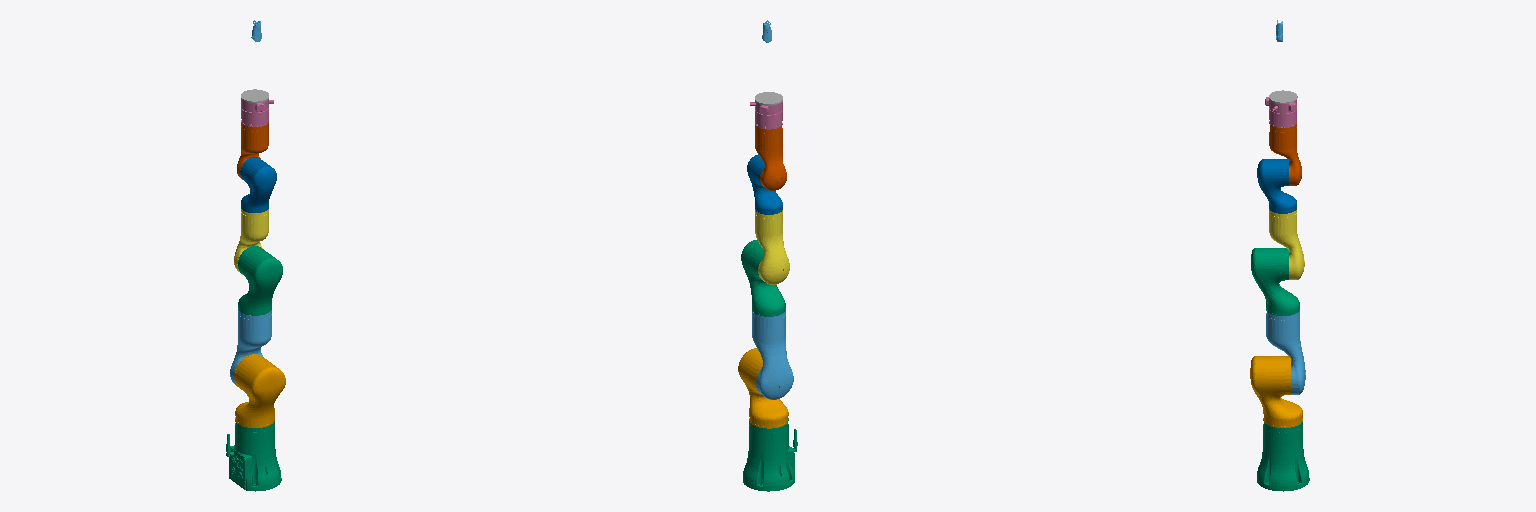
URDF robot description (Realman_Inspire_R_mimic):
<?xml version="1.0" encoding="UTF-8"?>
<robot name="Realman_Inspire_R_mimic">
  <!-- <joint name="R_index_proximal_joint" type="fixed">
    <origin xyz="-0.0019977 -0.0322074 0.1386 " rpy="1.5707964 0.0348927 -1.6415869"/>
    <parent link="R_hand_base_link"/>
    <child link="R_index_proximal"/>
    <limit lower="0." upper="1.7" effort="1.0" velocity="0.5"/>
  </joint> -->
  <joint name="R_middle_proximal_joint" type="fixed">
    <origin xyz="-0.0006314 -0.0129378 0.13917 " rpy="1.5707964 -0.0000072 -1.6415869"/>
    <parent link="R_hand_base_link"/>
    <child link="R_middle_proximal"/>
    <axis xyz="1. 0. 0."/>
    <limit lower="0." upper="1.7" effort="1." velocity="0.5"/>
  </joint>
  <joint name="hand_joint" type="fixed">
    <origin xyz="-0. 0. 0." rpy="0. 1.5707963 0. "/>
    <parent link="Link7"/>
    <child link="R_flange_link"/>
  </joint>
  <joint name="hand_root_joint" type="fixed">
    <origin xyz="0. 0. -0." rpy="0. 0. 0."/>
    <parent link="R_flange_link"/>
    <child link="R_hand_base_link"/>
  </joint>
  <joint name="joint1" type="revolute">
    <origin xyz="0. 0. 0.2405" rpy="3.1415927 -1.5707928 1.5707964"/>
    <parent link="base_link"/>
    <child link="Link1"/>
    <axis xyz="1. 0. 0."/>
    <limit lower="-3.1070001" upper="3.1070001" effort="100." velocity="1."/>
  </joint>
  <joint name="joint2" type="revolute">
    <origin xyz="0. 0. 0." rpy="3.1415927 -1.5707928 0. "/>
    <parent link="Link1"/>
    <child link="Link2"/>
    <axis xyz="1. 0. 0."/>
    <limit lower="-2.2689999" upper="2.2689999" effort="100." velocity="1."/>
  </joint>
  <joint name="joint3" type="revolute">
    <origin xyz="0. 0. 0.256" rpy="3.1415927 -1.5707928 0. "/>
    <parent link="Link2"/>
    <child link="Link3"/>
    <axis xyz="1. 0. 0."/>
    <limit lower="-3.1070001" upper="3.1070001" effort="100." velocity="1."/>
  </joint>
  <joint name="joint4" type="revolute">
    <origin xyz="0. 0. 0." rpy="3.1415927 -1.5707928 0. "/>
    <parent link="Link3"/>
    <child link="Link4"/>
    <axis xyz="1. 0. 0."/>
    <limit lower="-2.3559998" upper="2.3559998" effort="100." velocity="1."/>
  </joint>
  <joint name="joint5" type="revolute">
    <origin xyz="0. 0. 0.21" rpy="3.1415927 -1.5707928 0. "/>
    <parent link="Link4"/>
    <child link="Link5"/>
    <axis xyz="1. 0. 0."/>
    <limit lower="-3.1070001" upper="3.1070001" effort="100." velocity="1."/>
  </joint>
  <joint name="joint6" type="revolute">
    <origin xyz="0. 0. 0." rpy="3.1415927 -1.5707928 0. "/>
    <parent link="Link5"/>
    <child link="Link6"/>
    <axis xyz="1. 0. 0."/>
    <limit lower="-2.2339999" upper="2.2339999" effort="100." velocity="1."/>
  </joint>
  <joint name="joint7" type="revolute">
    <origin xyz="0. 0. 0.1725" rpy="-1.5707964 -1.5707964 0. "/>
    <parent link="Link6"/>
    <child link="Link7"/>
    <axis xyz="1. 0. 0."/>
    <limit lower="-6.2829994" upper="6.2829994" effort="100." velocity="1."/>
  </joint>
  <link name="Link1">
    <inertial>
      <origin xyz="0. 0. 0." rpy="0. 0. 0."/>
      <mass value="0.59356"/>
      <inertia ixx="0." ixy="0." ixz="0." iyy="0." iyz="0." izz="0."/>
    </inertial>
    <visual>
      <origin xyz="0. 0. 0." rpy="0. 0. 1.5707964"/>
      <geometry>
        <mesh filename="meshes/Link1_visuals.obj" scale="1. 1. 1."/>
      </geometry>
    </visual>
    <visual>
      <origin xyz="0. 0. 0." rpy="0. 0. 1.5707964"/>
      <geometry>
        <mesh filename="meshes/Link1_collisions.obj" scale="1. 1. 1."/>
      </geometry>
    </visual>
    <collision>
      <origin xyz="0. 0. 0." rpy="0. 0. 1.5707964"/>
      <geometry>
        <mesh filename="meshes/Link1_collisions.obj" scale="1. 1. 1."/>
      </geometry>
    </collision>
  </link>
  <link name="Link2">
    <inertial>
      <origin xyz="0. 0. 0." rpy="0. 0. 0."/>
      <mass value="0.43285"/>
      <inertia ixx="0." ixy="0." ixz="0." iyy="0." iyz="0." izz="0."/>
    </inertial>
    <visual>
      <origin xyz="0. 0. 0." rpy="0. 0. -1.5707964"/>
      <geometry>
        <mesh filename="meshes/Link2_visuals.obj" scale="1. 1. 1."/>
      </geometry>
    </visual>
    <visual>
      <origin xyz="0. 0. 0." rpy="0. 0. -1.5707964"/>
      <geometry>
        <mesh filename="meshes/Link2_collisions.obj" scale="1. 1. 1."/>
      </geometry>
    </visual>
    <collision>
      <origin xyz="0. 0. 0." rpy="0. 0. -1.5707964"/>
      <geometry>
        <mesh filename="meshes/Link2_collisions.obj" scale="1. 1. 1."/>
      </geometry>
    </collision>
  </link>
  <link name="Link3">
    <inertial>
      <origin xyz="0. 0. 0." rpy="0. 0. 0."/>
      <mass value="0.43132"/>
      <inertia ixx="0." ixy="0." ixz="0." iyy="0." iyz="0." izz="0."/>
    </inertial>
    <visual>
      <origin xyz="0. 0. 0." rpy="0. 0. 1.5707964"/>
      <geometry>
        <mesh filename="meshes/Link3_visuals.obj" scale="1. 1. 1."/>
      </geometry>
    </visual>
    <visual>
      <origin xyz="0. 0. 0." rpy="0. 0. 1.5707964"/>
      <geometry>
        <mesh filename="meshes/Link3_collisions.obj" scale="1. 1. 1."/>
      </geometry>
    </visual>
    <collision>
      <origin xyz="0. 0. 0." rpy="0. 0. 1.5707964"/>
      <geometry>
        <mesh filename="meshes/Link3_collisions.obj" scale="1. 1. 1."/>
      </geometry>
    </collision>
  </link>
  <link name="Link4">
    <inertial>
      <origin xyz="0. 0. 0." rpy="0. 0. 0."/>
      <mass value="0.28963"/>
      <inertia ixx="0." ixy="0." ixz="0." iyy="0." iyz="0." izz="0."/>
    </inertial>
    <visual>
      <origin xyz="0. 0. 0." rpy="0. 0. -1.5707964"/>
      <geometry>
        <mesh filename="meshes/Link4_visuals.obj" scale="1. 1. 1."/>
      </geometry>
    </visual>
    <visual>
      <origin xyz="0. 0. 0." rpy="0. 0. -1.5707964"/>
      <geometry>
        <mesh filename="meshes/Link4_collisions.obj" scale="1. 1. 1."/>
      </geometry>
    </visual>
    <collision>
      <origin xyz="0. 0. 0." rpy="0. 0. -1.5707964"/>
      <geometry>
        <mesh filename="meshes/Link4_collisions.obj" scale="1. 1. 1."/>
      </geometry>
    </collision>
  </link>
  <link name="Link5">
    <inertial>
      <origin xyz="0. 0. 0." rpy="0. 0. 0."/>
      <mass value="0.23941"/>
      <inertia ixx="0." ixy="0." ixz="0." iyy="0." iyz="0." izz="0."/>
    </inertial>
    <visual>
      <origin xyz="0. 0. 0." rpy="0. 0. 1.5707964"/>
      <geometry>
        <mesh filename="meshes/Link5_visuals.obj" scale="1. 1. 1."/>
      </geometry>
    </visual>
    <visual>
      <origin xyz="0. 0. 0." rpy="0. 0. 1.5707964"/>
      <geometry>
        <mesh filename="meshes/Link5_collisions.obj" scale="1. 1. 1."/>
      </geometry>
    </visual>
    <collision>
      <origin xyz="0. 0. 0." rpy="0. 0. 1.5707964"/>
      <geometry>
        <mesh filename="meshes/Link5_collisions.obj" scale="1. 1. 1."/>
      </geometry>
    </collision>
  </link>
  <link name="Link6">
    <inertial>
      <origin xyz="0. 0. 0." rpy="0. 0. 0."/>
      <mass value="0.21879"/>
      <inertia ixx="0." ixy="0." ixz="0." iyy="0." iyz="0." izz="0."/>
    </inertial>
    <visual>
      <origin xyz="0. 0. 0." rpy="0. 0. -1.5707964"/>
      <geometry>
        <mesh filename="meshes/Link6_visuals.obj" scale="1. 1. 1."/>
      </geometry>
    </visual>
    <visual>
      <origin xyz="0. 0. 0." rpy="0. 0. -1.5707964"/>
      <geometry>
        <mesh filename="meshes/Link6_collisions.obj" scale="1. 1. 1."/>
      </geometry>
    </visual>
    <collision>
      <origin xyz="0. 0. 0." rpy="0. 0. -1.5707964"/>
      <geometry>
        <mesh filename="meshes/Link6_collisions.obj" scale="1. 1. 1."/>
      </geometry>
    </collision>
  </link>
  <link name="Link7">
    <inertial>
      <origin xyz="0. 0. 0." rpy="0. 0. 0."/>
      <mass value="0.14433"/>
      <inertia ixx="0." ixy="0." ixz="0." iyy="0." iyz="0." izz="0."/>
    </inertial>
    <visual>
      <origin xyz="0. 0. 0." rpy="0. 1.5707963 0. "/>
      <geometry>
        <mesh filename="meshes/Link7_visuals.obj" scale="1. 1. 1."/>
      </geometry>
    </visual>
    <visual>
      <origin xyz="0. 0. 0." rpy="0. 1.5707963 0. "/>
      <geometry>
        <mesh filename="meshes/Link7_collisions.obj" scale="1. 1. 1."/>
      </geometry>
    </visual>
    <collision>
      <origin xyz="0. 0. 0." rpy="0. 1.5707963 0. "/>
      <geometry>
        <mesh filename="meshes/Link7_collisions.obj" scale="1. 1. 1."/>
      </geometry>
    </collision>
  </link> 
  <link name="R_flange_link">
    <visual>
      <origin xyz="0. 0. 0." rpy="0. 0. 0."/>
      <geometry>
        <cylinder radius="0.03" length="0.0038"/>
      </geometry>
    </visual>
    <collision>
      <origin xyz="0. 0. 0." rpy="0. 0. 0."/>
      <geometry>
        <cylinder radius="0.03" length="0.0038"/>
      </geometry>
    </collision>
  </link>
  <link name="R_hand_base_link">
    <inertial>
      <origin xyz="0. 0. 0." rpy="0. 0. 0."/>
      <mass value="0.14143"/>
      <inertia ixx="0." ixy="0." ixz="0." iyy="0." iyz="0." izz="0."/>
    </inertial>
    <visual>
      <origin xyz="-0. -0. 0.00207" rpy="-1.5707964 0. -0.0707906"/>
      <geometry>
        <mesh filename="meshes/R_hand_base_link_visuals.obj" scale="1. 1. 1."/>
      </geometry>
    </visual>
    <visual>
      <origin xyz="-0. -0. 0.00207" rpy="-1.5707964 0. -0.0707906"/>
      <geometry>
        <mesh filename="meshes/R_hand_base_link_collisions.obj" scale="1. 1. 1."/>
      </geometry>
    </visual>
    <collision>
      <origin xyz="-0. -0. 0.00207" rpy="-1.5707964 0. -0.0707906"/>
      <geometry>
        <mesh filename="meshes/R_hand_base_link_collisions.obj" scale="1. 1. 1."/>
      </geometry>
    </collision>
  </link>
  <!-- <link name="R_index_proximal">
    <inertial>
      <origin xyz="0. 0. 0." rpy="0. 0. 0."/>
      <mass value="0.0042403"/>
      <inertia ixx="0." ixy="0." ixz="0." iyy="0." iyz="0." izz="0."/>
    </inertial>
    <visual>
      <origin xyz="0. 0. 0." rpy="0. 1.5707963 0. "/>
      <geometry>
        <mesh filename="meshes/R_index_proximal_visuals.obj" scale="1. 1. 1."/>
      </geometry>
    </visual>
    <visual>
      <origin xyz="0. 0. 0." rpy="0. 1.5707963 0. "/>
      <geometry>
        <mesh filename="meshes/R_index_proximal_collisions.obj" scale="1. 1. 1."/>
      </geometry>
    </visual>
    <collision>
      <origin xyz="0. 0. 0." rpy="0. 1.5707963 0. "/>
      <geometry>
        <mesh filename="meshes/R_index_proximal_collisions.obj" scale="1. 1. 1."/>
      </geometry>
    </collision>
  </link> -->
  <link name="R_middle_proximal">
    <inertial>
      <origin xyz="0. 0. 0." rpy="0. 0. 0."/>
      <mass value="0.0042403"/>
      <inertia ixx="0." ixy="0." ixz="0." iyy="0." iyz="0." izz="0."/>
    </inertial>
    <visual>
      <origin xyz="0. 0. 0." rpy="0. 1.5707963 0. "/>
      <geometry>
        <mesh filename="meshes/R_middle_proximal_visuals.obj" scale="1. 1. 1."/>
      </geometry>
    </visual>
    <visual>
      <origin xyz="0. 0. 0." rpy="0. 1.5707963 0. "/>
      <geometry>
        <mesh filename="meshes/R_middle_proximal_collisions.obj" scale="1. 1. 1."/>
      </geometry>
    </visual>
    <collision>
      <origin xyz="0. 0. 0." rpy="0. 1.5707963 0. "/>
      <geometry>
        <mesh filename="meshes/R_middle_proximal_collisions.obj" scale="1. 1. 1."/>
      </geometry>
    </collision>
  </link>
  <link name="base_link">
    <inertial>
      <origin xyz="0. 0. 0." rpy="0. 0. 0."/>
      <mass value="0.84105"/>
      <inertia ixx="0." ixy="0." ixz="0." iyy="0." iyz="0." izz="0."/>
    </inertial>
    <visual>
      <origin xyz="0. 0. 0." rpy="0. 0. 0."/>
      <geometry>
        <mesh filename="meshes/base_link_visuals.obj" scale="1. 1. 1."/>
      </geometry>
    </visual>
    <visual>
      <origin xyz="0. 0. 0." rpy="0. 0. 0."/>
      <geometry>
        <mesh filename="meshes/base_link_collisions.obj" scale="1. 1. 1."/>
      </geometry>
    </visual>
    <collision>
      <origin xyz="0. 0. 0." rpy="0. 0. 0."/>
      <geometry>
        <mesh filename="meshes/base_link_collisions.obj" scale="1. 1. 1."/>
      </geometry>
    </collision>
  </link>
</robot>

--- Render facts (derived) ---
3 views of the same robot in one strip: view 1: azimuth 30°, elevation 25°; view 2: azimuth 210°, elevation 25°; view 3: azimuth 270°, elevation 25° (orthographic).
Robot: Realman_Inspire_R_mimic — 11 links, 10 joints (7 revolute, 3 fixed); root link base_link; default pose: all joints at 0.
Links seen in each view (by area): view 1: base_link, Link1, Link3, Link5, Link2, Link4, Link6, Link7; view 2: base_link, Link2, Link4, Link1, Link3, Link6, Link5, Link7; view 3: base_link, Link1, Link3, Link2, Link5, Link4, Link6, Link7.
Boxes of the visible links, left/top/right/bottom form: base_link: left=226, top=421, right=281, bottom=491; Link1: left=234, top=354, right=285, bottom=427; Link3: left=238, top=246, right=282, bottom=315; Link5: left=240, top=157, right=276, bottom=212; Link2: left=230, top=310, right=271, bottom=386; Link4: left=234, top=209, right=268, bottom=274; Link6: left=237, top=123, right=268, bottom=179; Link7: left=241, top=99, right=273, bottom=126; base_link: left=743, top=420, right=797, bottom=491; Link2: left=752, top=311, right=793, bottom=399; Link4: left=755, top=210, right=789, bottom=284; Link1: left=738, top=348, right=788, bottom=428; Link3: left=741, top=240, right=785, bottom=316; Link6: left=755, top=124, right=786, bottom=190; Link5: left=747, top=154, right=782, bottom=214; Link7: left=750, top=102, right=782, bottom=129; base_link: left=1257, top=420, right=1309, bottom=491; Link1: left=1250, top=356, right=1302, bottom=427; Link3: left=1251, top=248, right=1299, bottom=315; Link2: left=1266, top=310, right=1305, bottom=394; Link5: left=1257, top=159, right=1296, bottom=213; Link4: left=1269, top=209, right=1304, bottom=279; Link6: left=1269, top=123, right=1301, bottom=185; Link7: left=1265, top=97, right=1296, bottom=127.
Bounding box of the posed robot: 0.1143 × 0.123 × 1.05 m (x, y, z).
Meshes: 20 distinct files referenced, 9 mesh visuals loaded (9 OBJ); not drawn: 11 (reference not matched to a file when rendering).